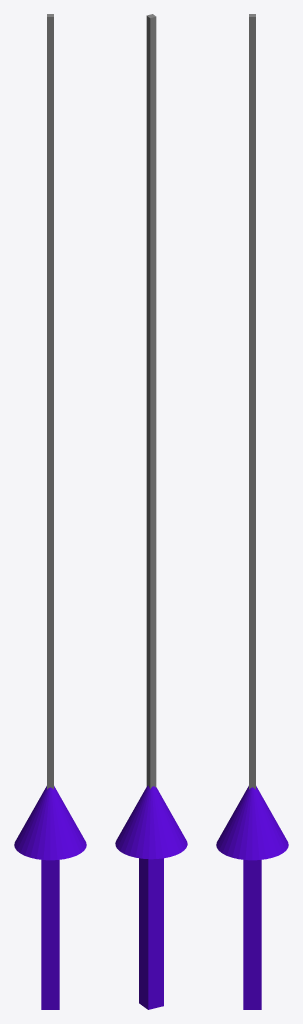
The model's file is charged_line.glb.
The picture shows the model from 3 angles, left to right: view 1: azimuth 90°, elevation 25°; view 2: azimuth 210°, elevation 25°; view 3: azimuth 270°, elevation 25°; orthographic projection.
Parts seen in each view (by area): view 1: Cube.001, Cube; view 2: Cube, Cube.001; view 3: Cube.001, Cube.
Part boxes in pixels (x1,y1,x2,y2): Cube.001: (14,786,86,1009); Cube: (47,14,53,789); Cube: (146,14,156,789); Cube.001: (115,785,187,1009); Cube.001: (216,786,288,1009); Cube: (249,14,255,789).
Bounding box in the file's own units: 0.4 × 6.03 × 0.4.
